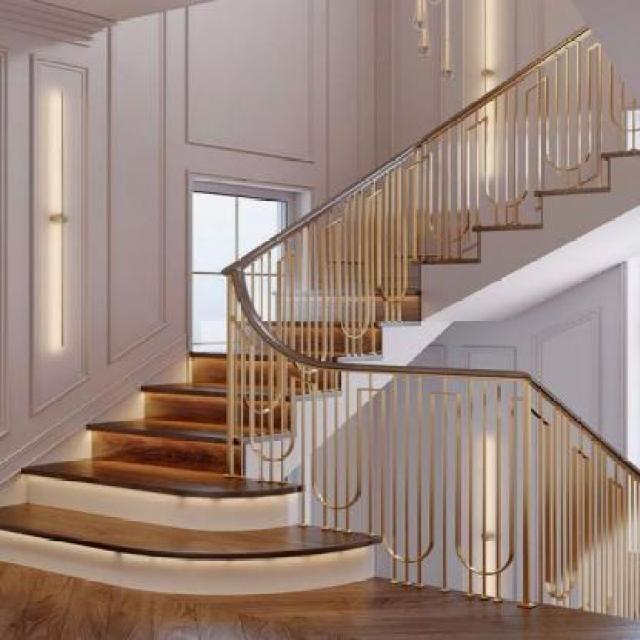stair: (0, 141, 582, 590)
